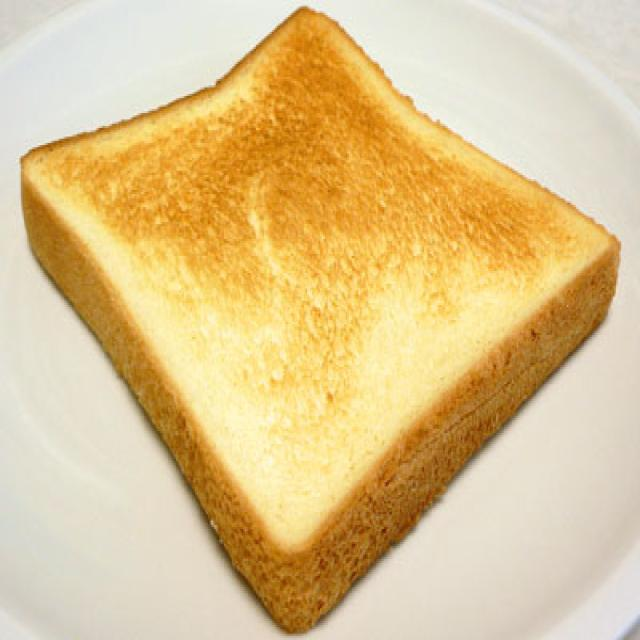面包点心: (5, 0, 627, 640)
